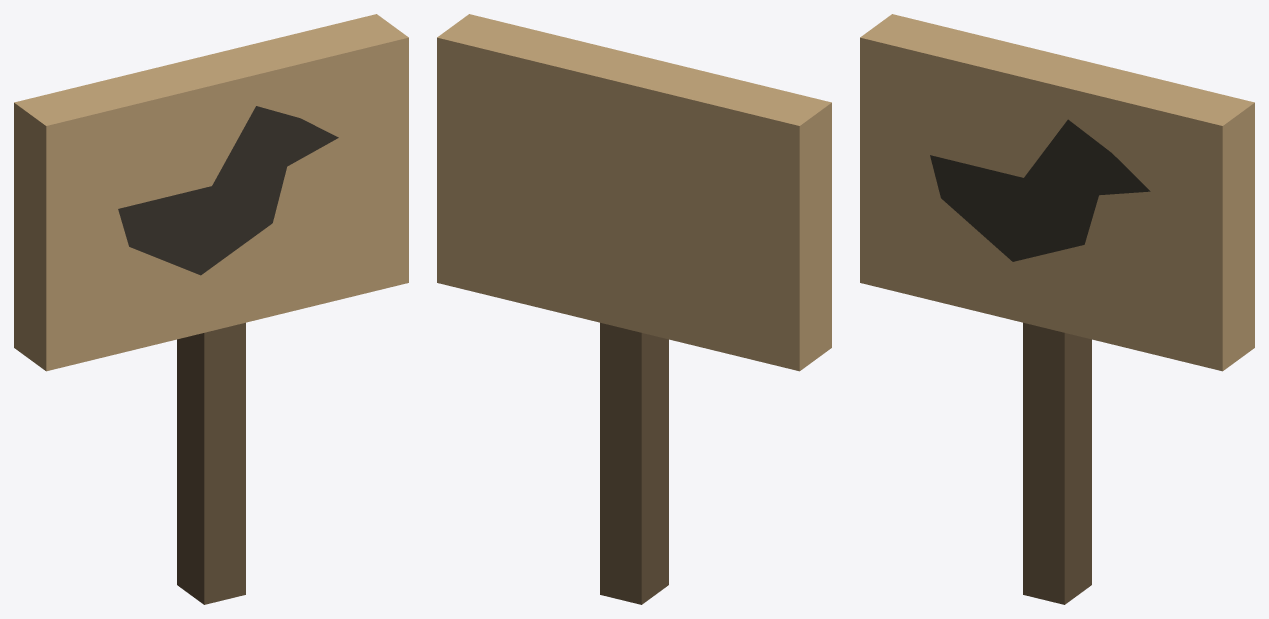
The model's file is ZO_BirdSign.glb.
The picture shows the model from 3 angles, left to right: view 1: azimuth 30°, elevation 25°; view 2: azimuth 150°, elevation 25°; view 3: azimuth 330°, elevation 25°; orthographic projection.
Parts seen in each view (by area): view 1: ZO_BirdSign; view 2: ZO_BirdSign; view 3: ZO_BirdSign.
Part boxes in pixels (x1,y1,x2,y2): ZO_BirdSign: (14,14,408,604); ZO_BirdSign: (437,14,831,604); ZO_BirdSign: (860,14,1254,604).
Bounding box in the file's own units: 6.5 × 8.9 × 1.03.
1 material, 1 textured.
